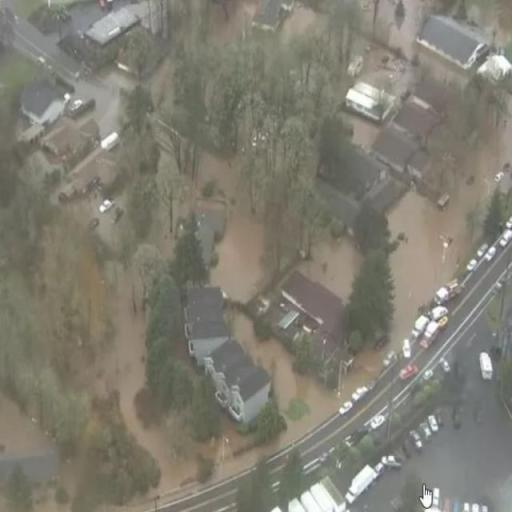flood: (201, 310, 385, 481), (388, 122, 512, 348), (104, 272, 198, 505), (199, 154, 263, 303), (360, 0, 435, 60), (297, 234, 362, 297), (0, 395, 55, 460), (210, 0, 260, 46), (86, 277, 105, 344), (282, 6, 318, 38)
house: (418, 14, 488, 69), (282, 274, 341, 326), (373, 125, 419, 176), (347, 77, 396, 122), (232, 366, 270, 424), (204, 346, 241, 402), (20, 82, 64, 124), (186, 328, 233, 364), (41, 130, 75, 155)
